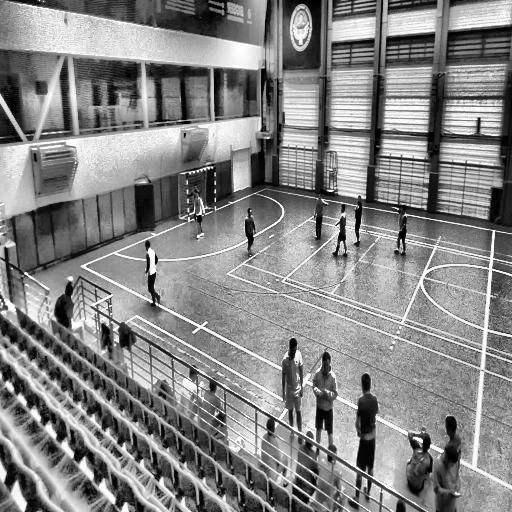ball: (66, 273, 74, 285)
player: (353, 375, 378, 504), (312, 350, 337, 458), (281, 337, 304, 440), (144, 240, 160, 307), (191, 184, 206, 240), (333, 203, 348, 258), (394, 204, 407, 255), (314, 193, 328, 240), (244, 207, 256, 257), (354, 197, 364, 246), (190, 182, 200, 217)
